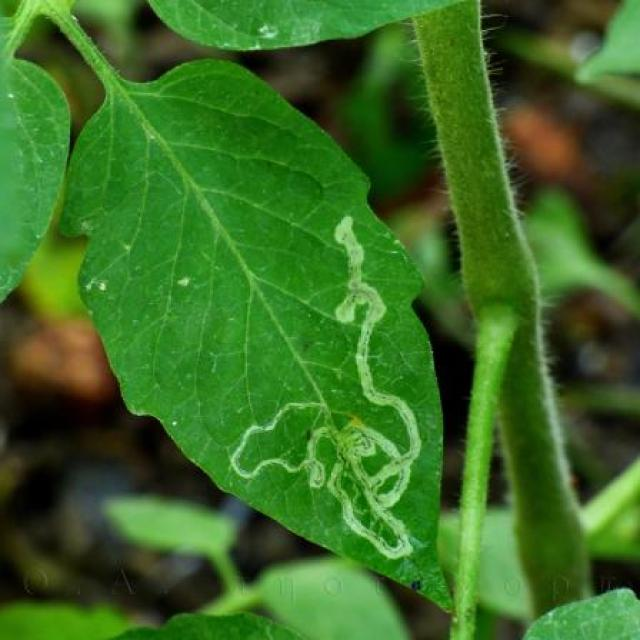Leaf Miner: (62, 55, 461, 616)
